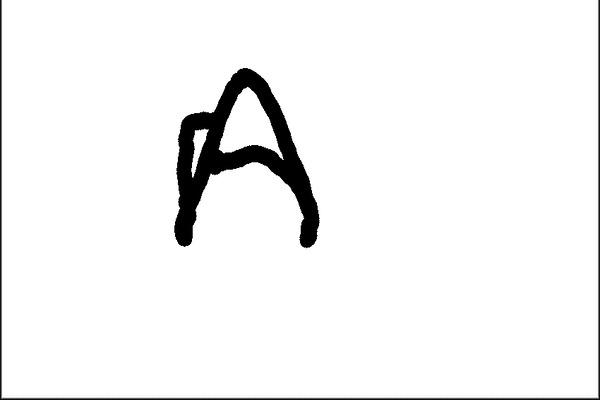A: (161, 64, 322, 256)
